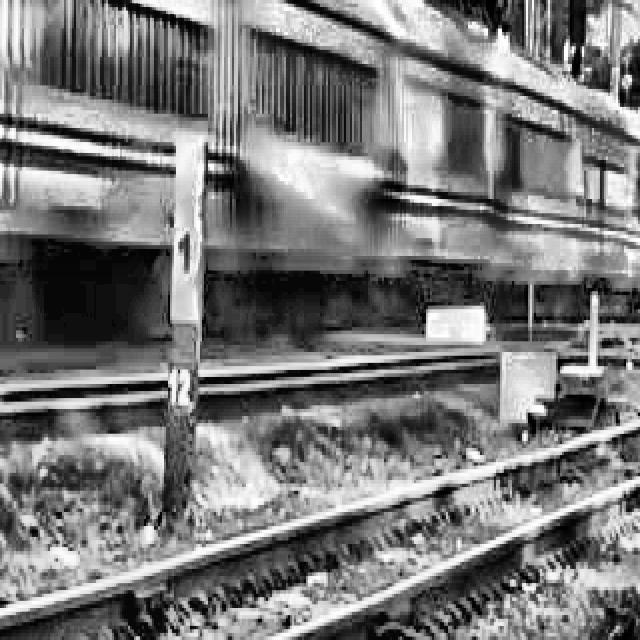Kereta: (0, 0, 236, 260), (198, 0, 402, 267), (344, 0, 504, 274), (476, 18, 584, 281), (566, 60, 640, 288)
